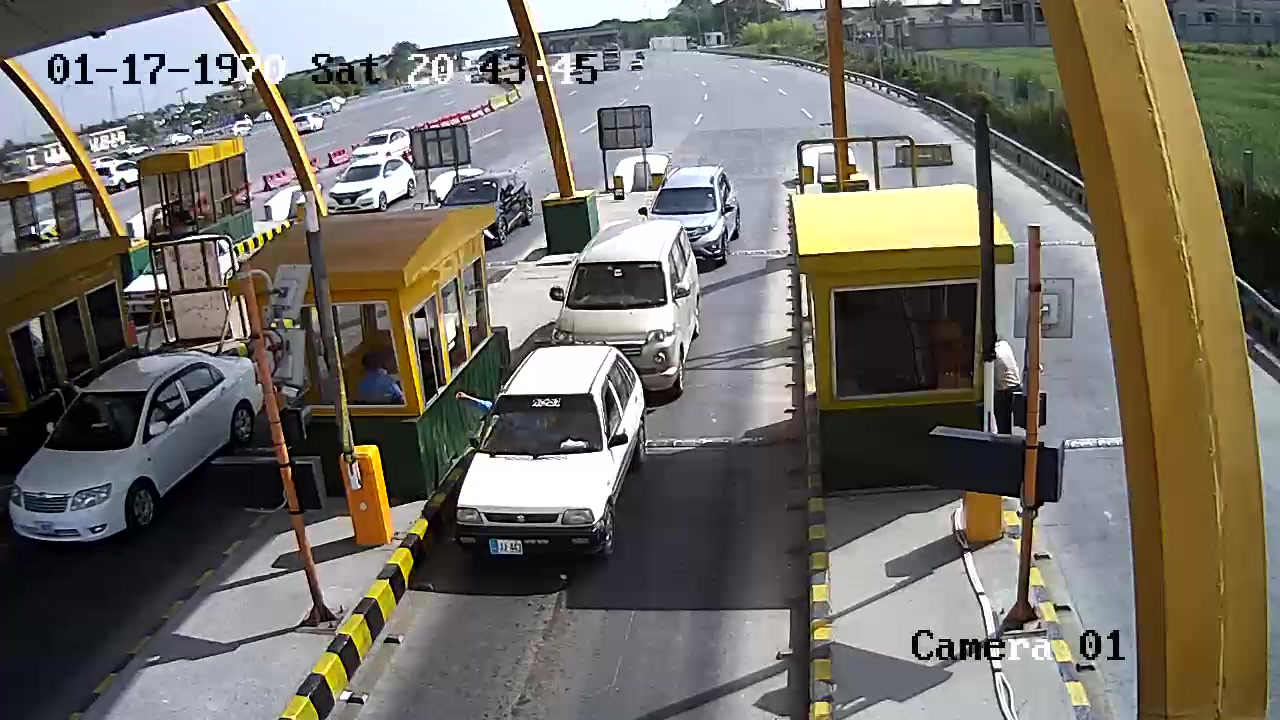F1: (450, 340, 642, 578), (551, 218, 709, 400)
